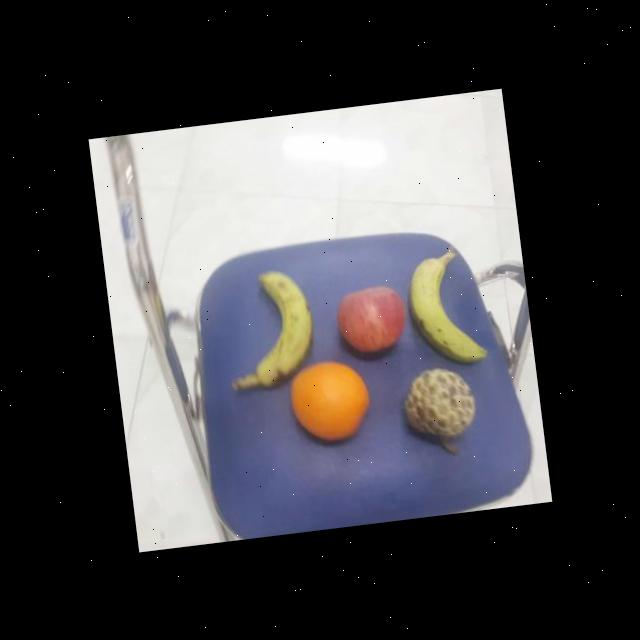Sakya fruit: (398, 362, 482, 442)
apple: (330, 282, 411, 356)
banana: (401, 247, 493, 372), (234, 261, 323, 388)
orange: (286, 355, 376, 445)
